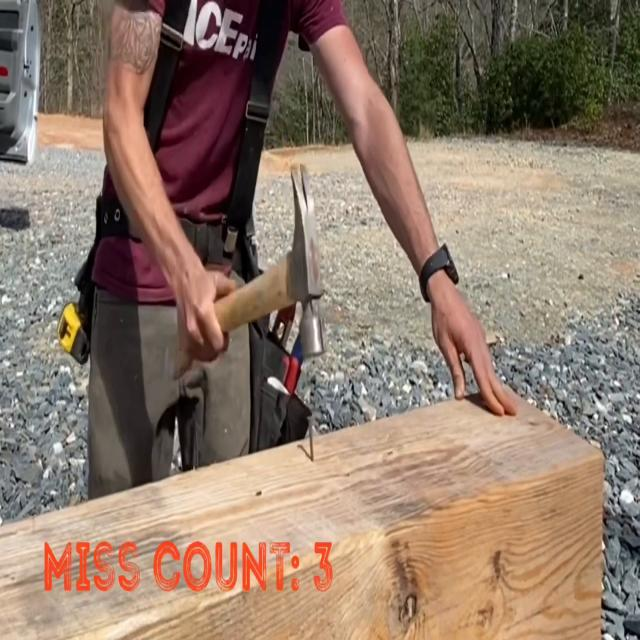hammer: (184, 159, 328, 364)
